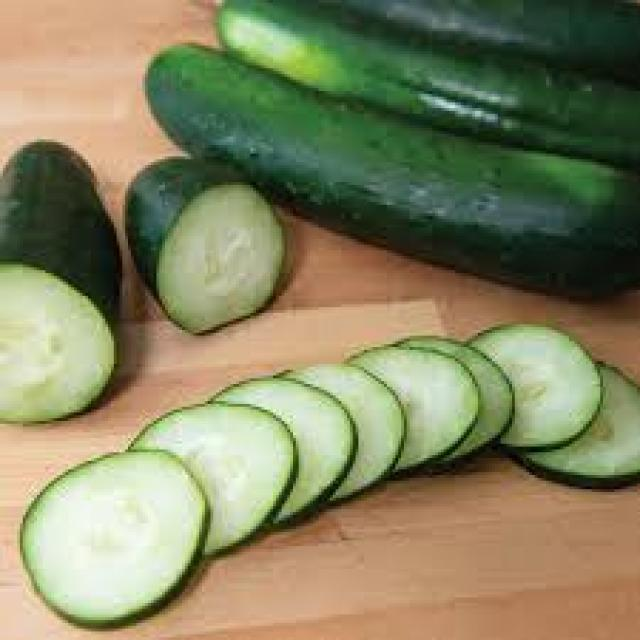Pickle: (150, 0, 640, 294), (220, 0, 640, 171), (0, 141, 118, 422), (21, 451, 205, 626), (126, 158, 288, 333), (129, 408, 295, 554), (212, 376, 356, 523), (350, 346, 479, 471), (470, 325, 601, 448), (287, 365, 405, 501), (512, 364, 640, 487), (398, 338, 511, 464)
